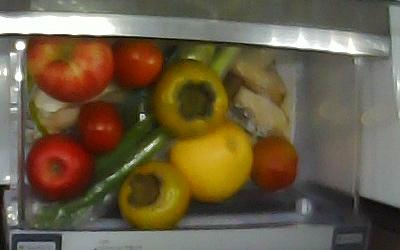apple: (30, 38, 113, 103), (27, 137, 91, 196)
grapefruit: (166, 119, 253, 201)
persimmon: (154, 60, 228, 134), (117, 164, 188, 228)
prune: (248, 135, 297, 191), (76, 99, 124, 154), (113, 38, 162, 88)
